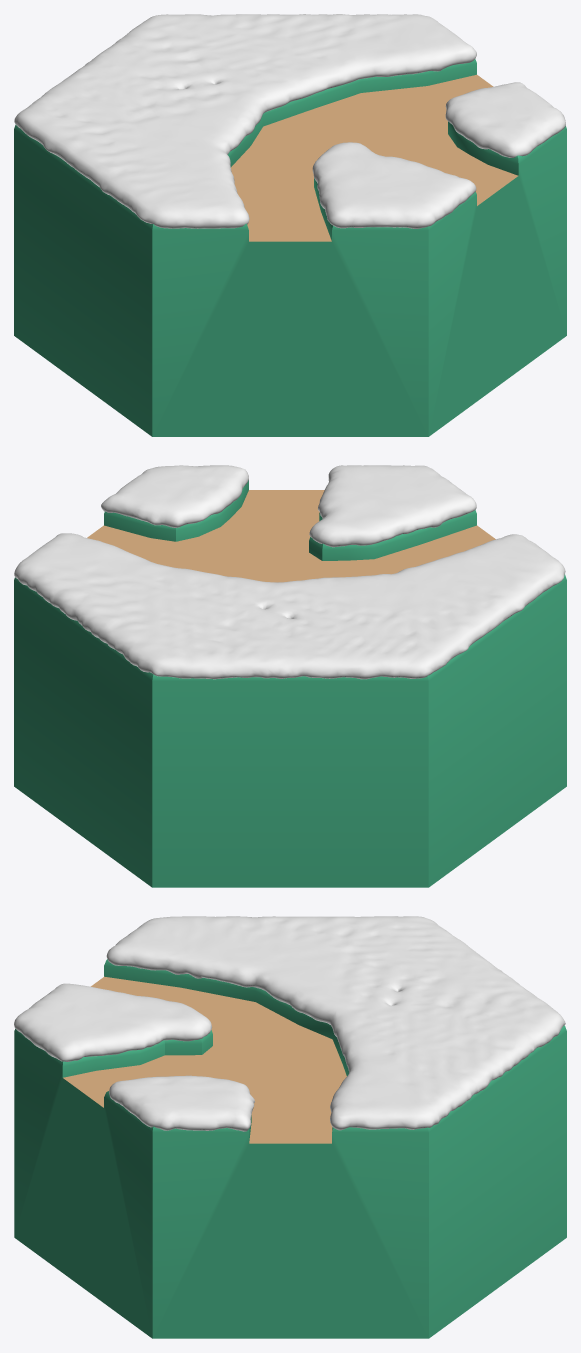
Rendered from snow_hex_forest_roadH.fbx.
3 views of the same model, one above another, from view 1: azimuth 30°, elevation 25°; view 2: azimuth 150°, elevation 25°; view 3: azimuth 270°, elevation 25° (orthographic).
Visible parts, largest first — view 1: hex_forest_roadH.001, SnowBall.001, hex_forest_roadH; view 2: hex_forest_roadH.001, SnowBall.001, hex_forest_roadH; view 3: hex_forest_roadH.001, SnowBall.001, hex_forest_roadH.
Boxes of the visible parts, <box> form: hex_forest_roadH.001: <box>14,59,566,436</box>; SnowBall.001: <box>14,14,565,228</box>; hex_forest_roadH: <box>231,74,518,241</box>; hex_forest_roadH.001: <box>14,480,566,887</box>; SnowBall.001: <box>14,465,565,679</box>; hex_forest_roadH: <box>87,490,495,582</box>; hex_forest_roadH.001: <box>14,959,566,1338</box>; SnowBall.001: <box>14,916,565,1131</box>; hex_forest_roadH: <box>63,976,346,1143</box>.
Size of the model in its own units: 204 by 104 by 231.
